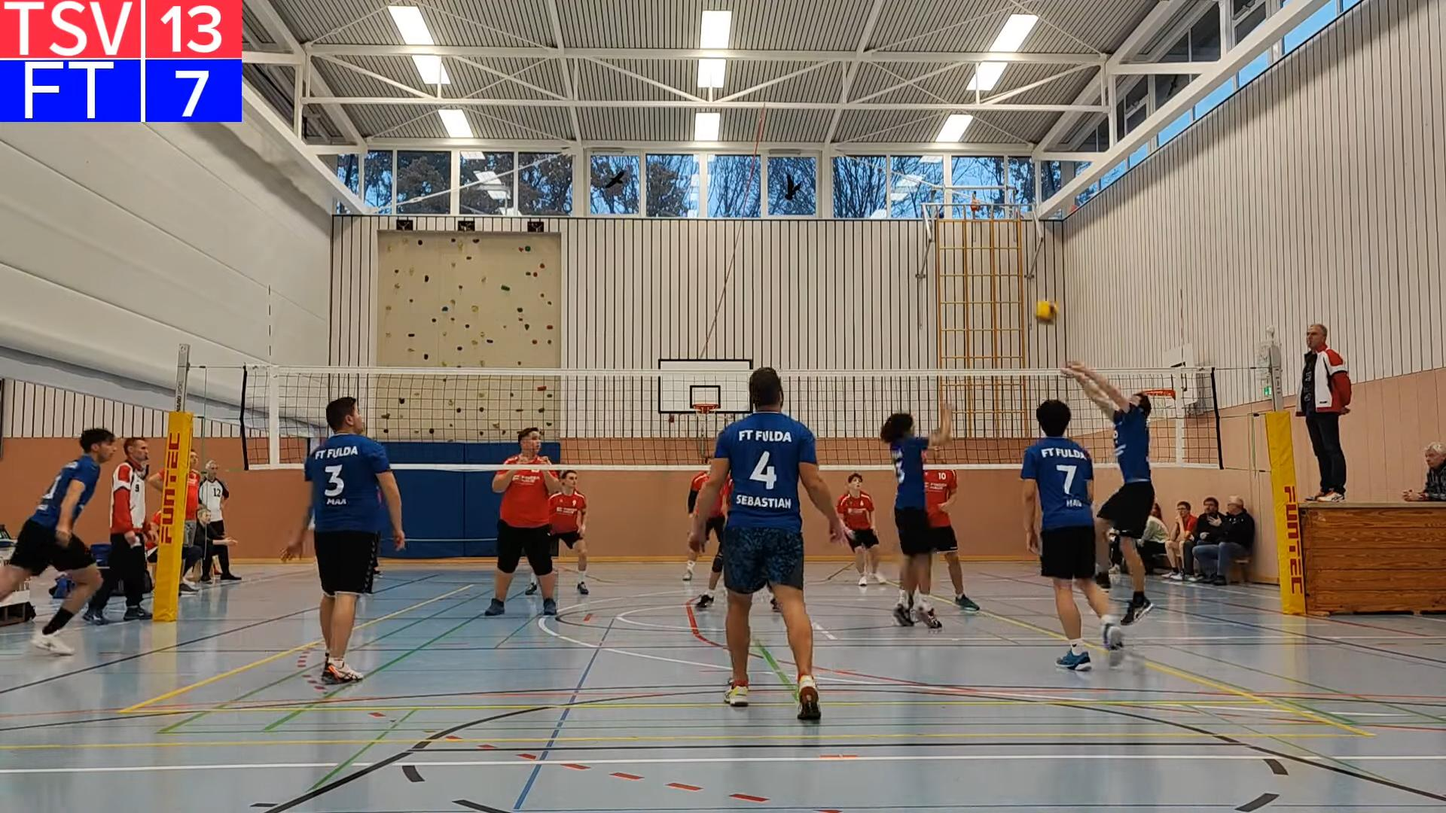alzata: (1056, 355, 1160, 651)
